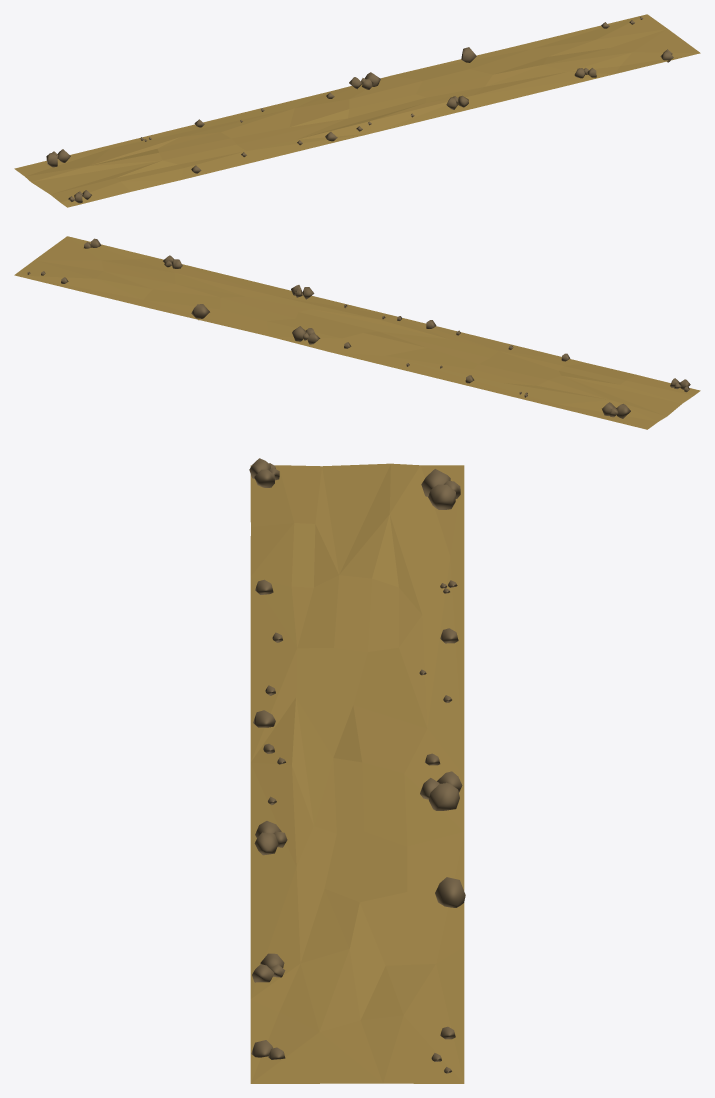
File: Road.fbx
3 views of the same model, one above another, from view 1: azimuth 30°, elevation 25°; view 2: azimuth 150°, elevation 25°; view 3: azimuth 270°, elevation 25° (orthographic). The views are drawn at different scales.
Visible parts, largest first — view 1: LowPoly; view 2: LowPoly; view 3: LowPoly.
Boxes of the visible parts, x1=… form: LowPoly: x1=14, y1=14, x2=700, y2=207; LowPoly: x1=14, y1=236, x2=700, y2=429; LowPoly: x1=249, y1=458, x2=465, y2=1083.
Bounding box in the file's own units: 3092 × 80.02 × 456.
